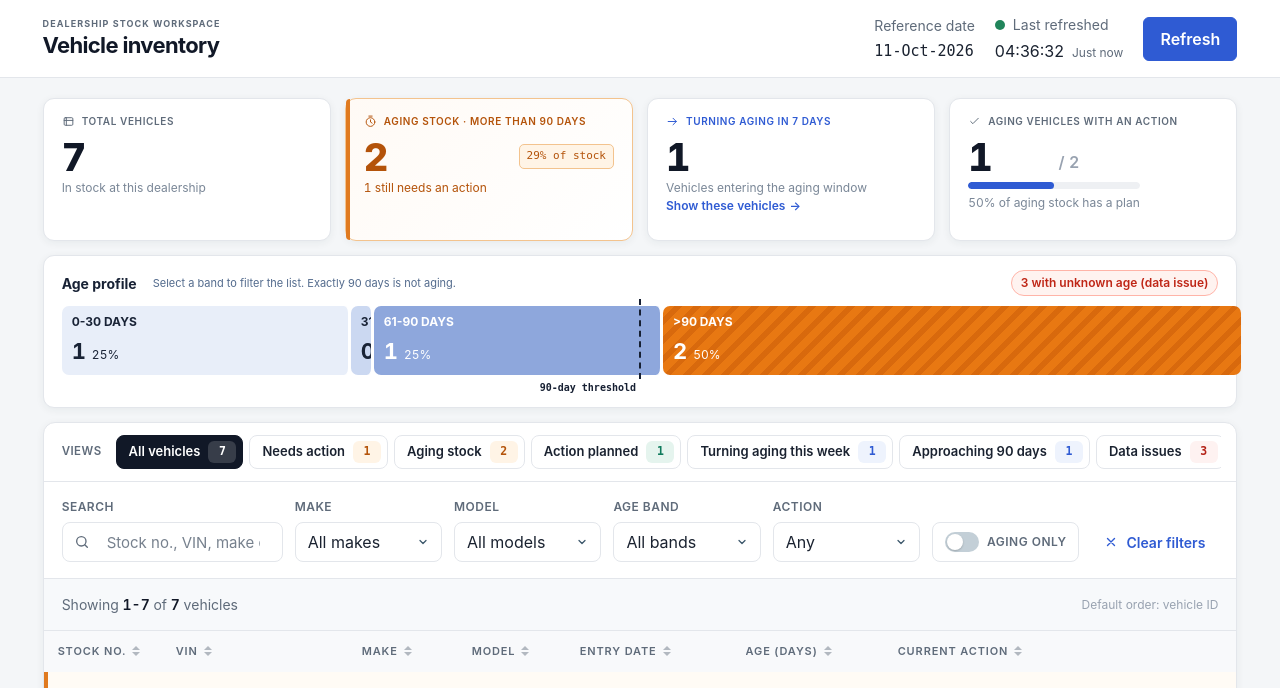
Scenario: App › replaces active filters with the Data issues view
Select "Ford" in the dropdown labelled "Make" at (368, 542), box 295,522 -> 442,562
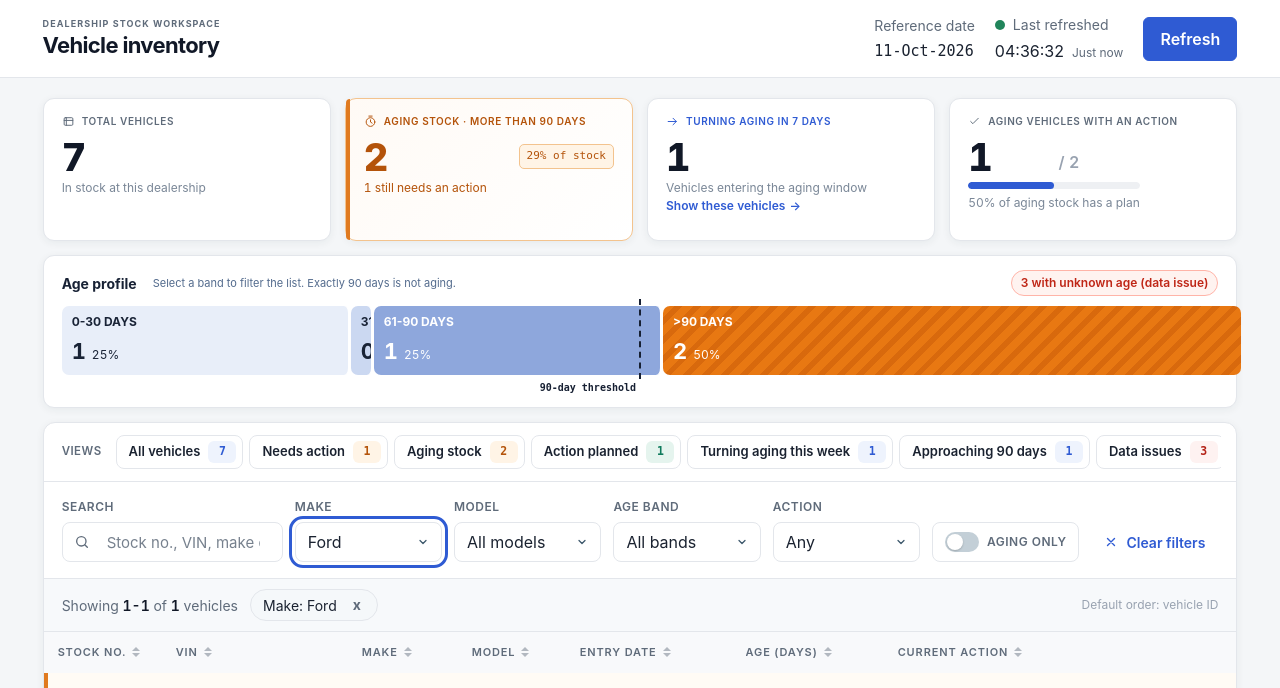
Click the button "3 with unknown age (data issue)" at (1115, 283), box 1011,270 -> 1218,296
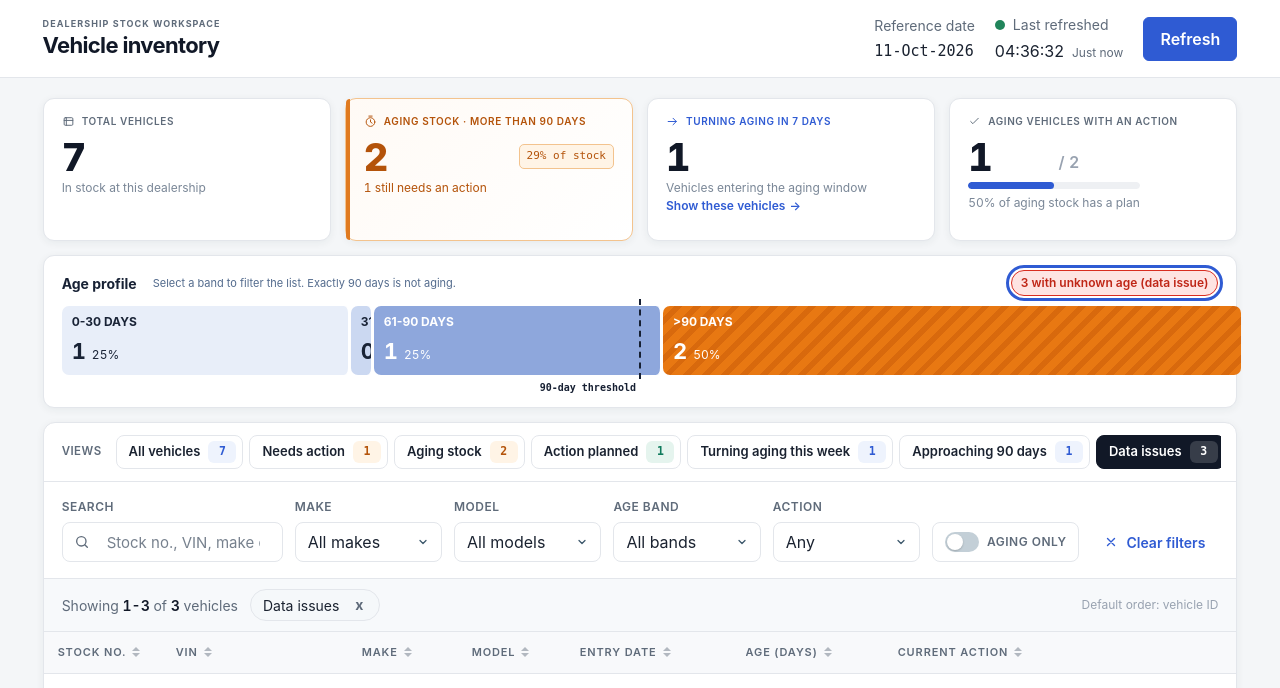
Expected: the number of rows is 4
Click the button "3 with unknown age (data issue)" at (1115, 283), box 1011,270 -> 1218,296
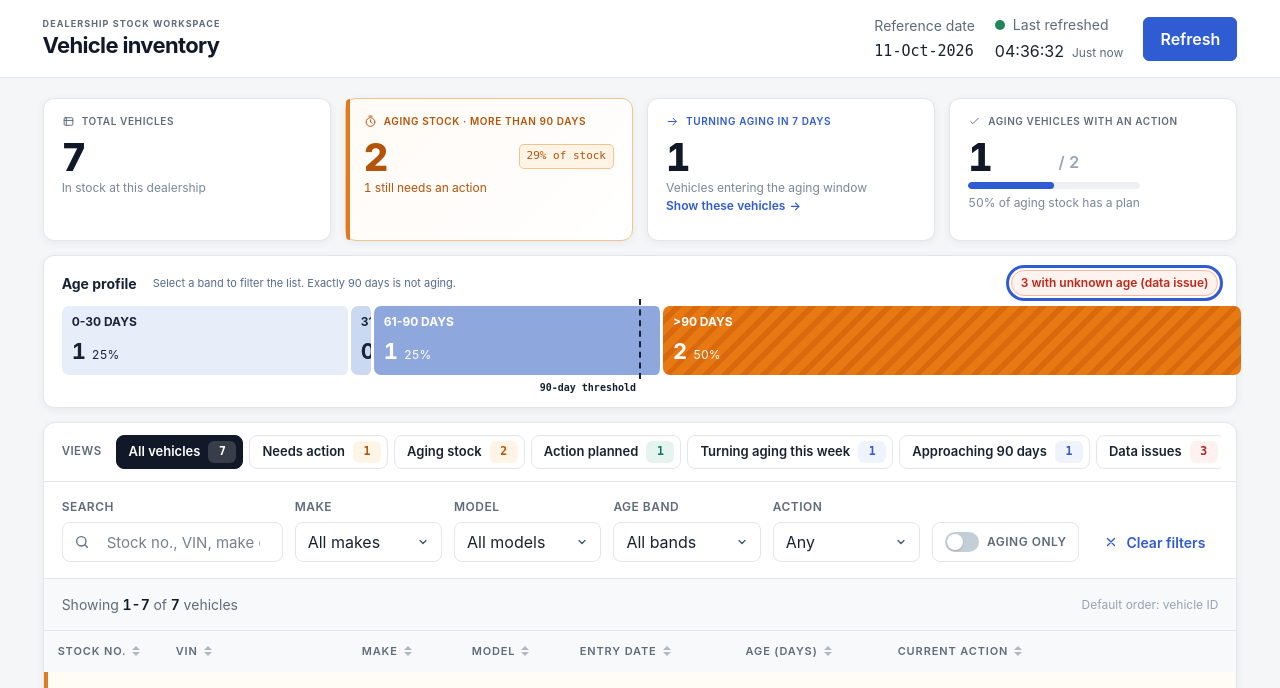
Expected: the number of rows is 8
